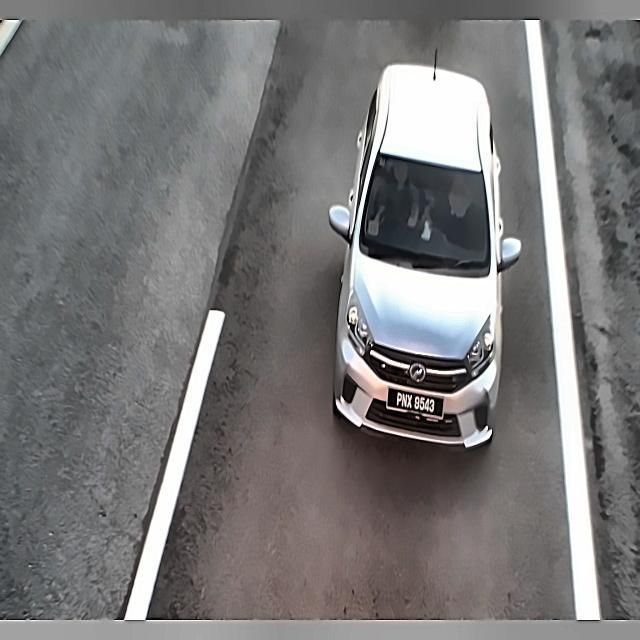car: (384, 379, 444, 426)
